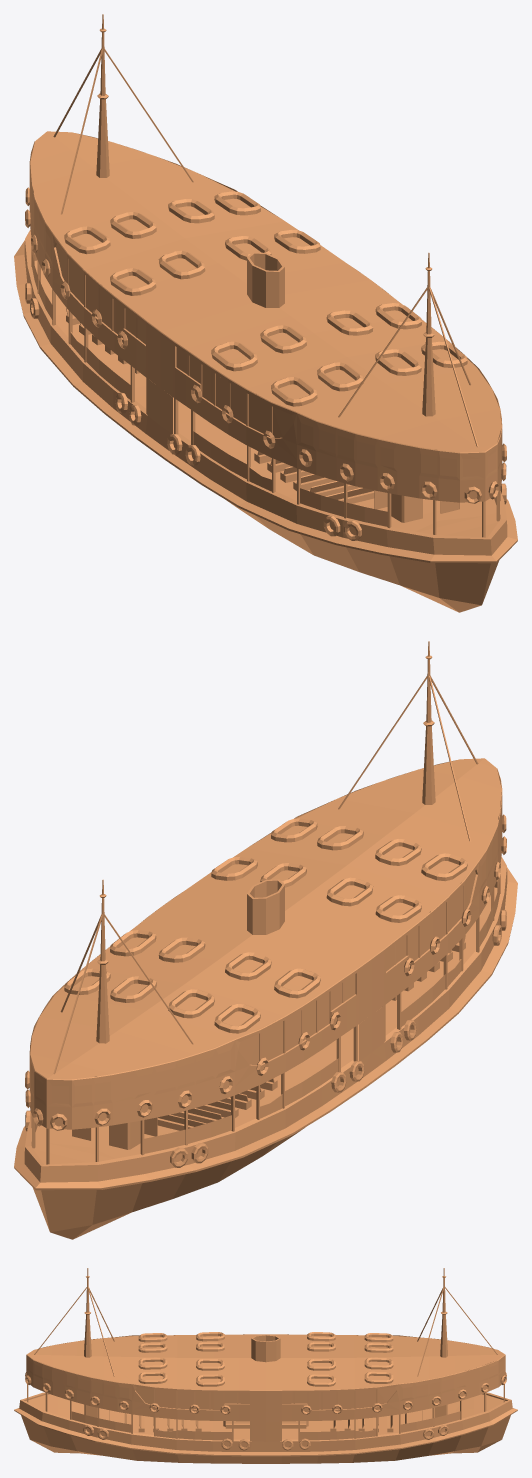
The model's file is hongkong-boat.fbx.
3 views of the same model, one above another, from view 1: azimuth 30°, elevation 25°; view 2: azimuth 150°, elevation 25°; view 3: azimuth 270°, elevation 25° (orthographic). The views are drawn at different scales.
Parts seen in each view (by area): view 1: hongkong-boat; view 2: hongkong-boat; view 3: hongkong-boat.
Part boxes in pixels (<box>): hongkong-boat: <box>14,14,517,612</box>; hongkong-boat: <box>14,641,517,1239</box>; hongkong-boat: <box>14,1268,517,1463</box>.
Bounding box in the file's own units: 1.92 × 2.73 × 6.67.
